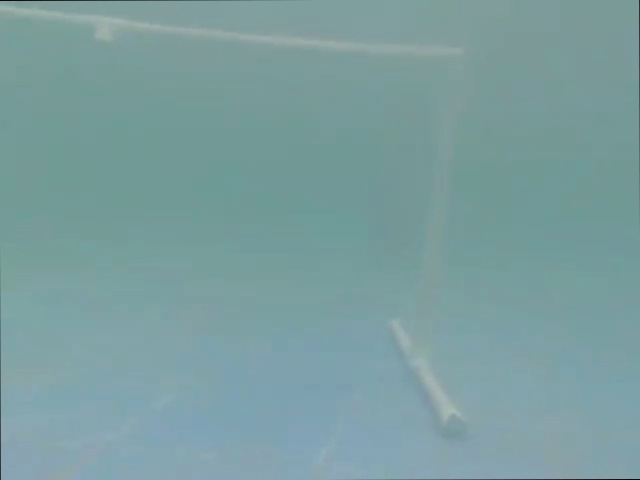gate: (5, 5, 495, 465)
